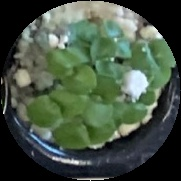Basil: (48, 49, 97, 95), (27, 90, 78, 127), (80, 75, 119, 123), (53, 120, 112, 149), (92, 36, 124, 79), (105, 99, 147, 129), (131, 41, 176, 66), (71, 19, 122, 41)
